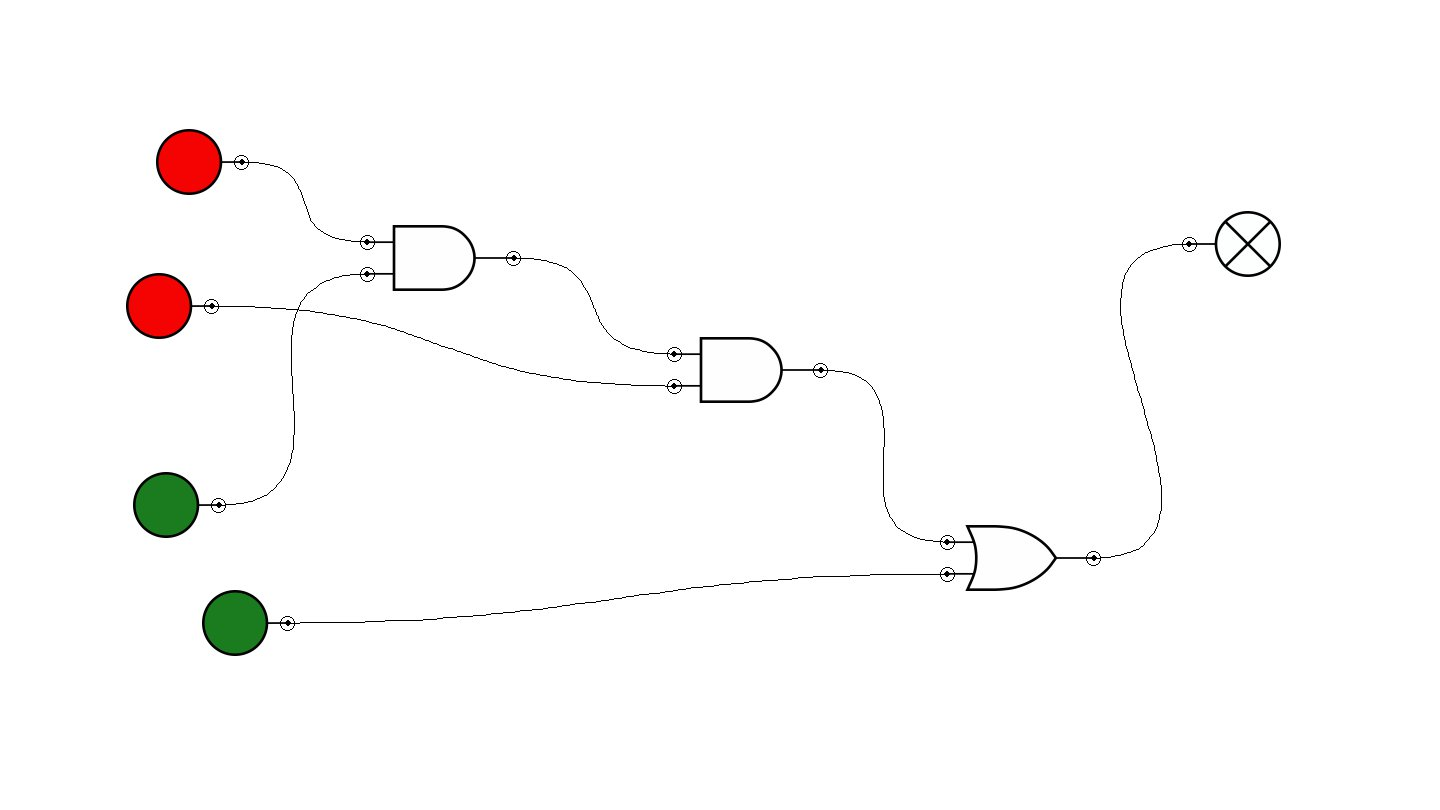and: (667, 337, 828, 403), (360, 225, 521, 291)
bulb: (1182, 211, 1281, 277)
or: (940, 525, 1101, 591)
switch_False: (126, 273, 219, 339), (156, 129, 249, 195)
switch_True: (133, 472, 226, 538), (202, 590, 295, 656)
